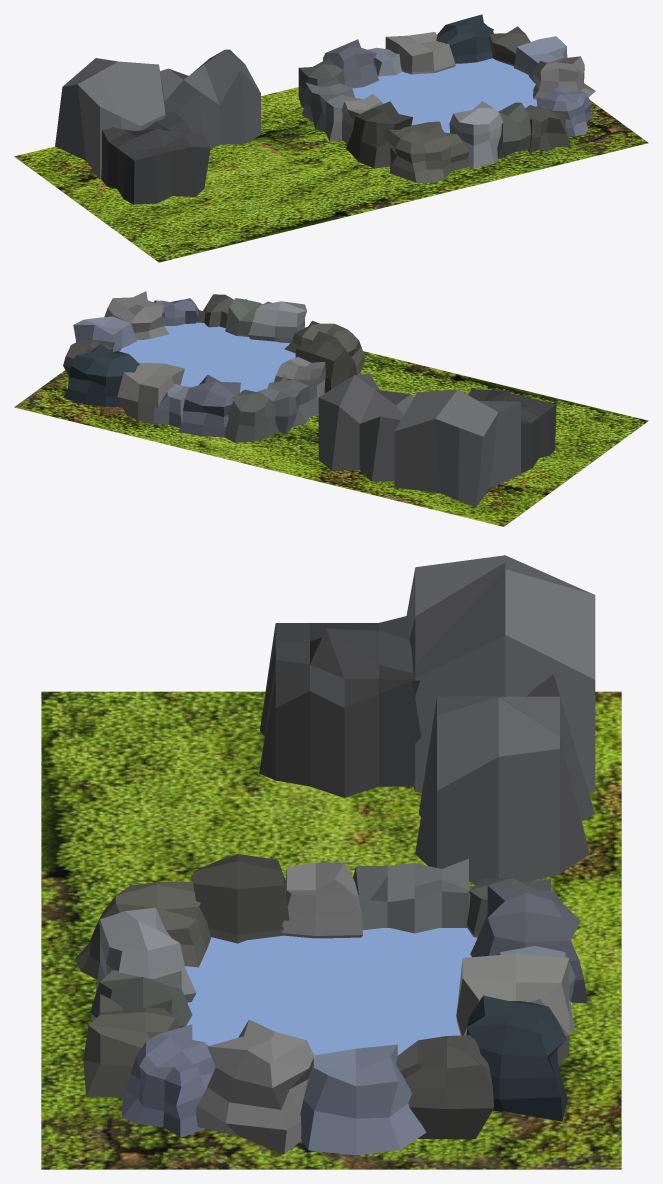
The model's file is lake.glb.
3 renders of one model, top to bottom at view 1: azimuth 30°, elevation 25°; view 2: azimuth 150°, elevation 25°; view 3: azimuth 270°, elevation 25°, orthographic. The views are drawn at different scales.
Visible parts, largest first — view 1: Plane.001_22, Cube.001_2, Cube.003_4, Plane_21, Cube.002_3, Cube.008_9, Cube.007_8, Cube.012_13, Cube.011_12, Cube.005_6, Cube.009_10, Cube.016_17 (+9 smaller); view 2: Plane.001_22, Cube.001_2, Cube.002_3, Plane_21, Cube.009_10, Cube.003_4, Cube.018_19, Cube.011_12, Cube.004_5, Cube.005_6, Cube.012_13, Cube.007_8 (+9 smaller); view 3: Plane.001_22, Plane_21, Cube.002_3, Cube.001_2, Cube.003_4, Cube.016_17, Cube.017_18, Cube.009_10, Cube.019_20, Cube.015_16, Cube.005_6, Cube.007_8 (+8 smaller).
Part boxes in pixels (<box>): Plane.001_22: <box>14,87,648,262</box>; Cube.001_2: <box>55,58,165,179</box>; Cube.003_4: <box>101,111,210,204</box>; Plane_21: <box>352,58,537,133</box>; Cube.002_3: <box>160,49,260,149</box>; Cube.008_9: <box>384,121,469,182</box>; Cube.007_8: <box>346,101,412,168</box>; Cube.012_13: <box>449,101,503,168</box>; Cube.011_12: <box>385,32,455,74</box>; Cube.005_6: <box>302,77,363,141</box>; Cube.009_10: <box>436,14,493,63</box>; Cube.016_17: <box>532,56,595,99</box>; Plane.001_22: <box>14,351,648,526</box>; Cube.001_2: <box>394,389,520,507</box>; Cube.002_3: <box>318,373,413,481</box>; Plane_21: <box>120,322,295,392</box>; Cube.009_10: <box>63,343,139,406</box>; Cube.003_4: <box>468,389,556,473</box>; Cube.018_19: <box>178,375,240,437</box>; Cube.011_12: <box>117,362,184,425</box>; Cube.004_5: <box>224,389,278,442</box>; Cube.005_6: <box>257,375,318,434</box>; Cube.012_13: <box>248,301,306,343</box>; Cube.007_8: <box>295,331,356,393</box>; Plane.001_22: <box>41,691,621,1169</box>; Plane_21: <box>185,928,477,1055</box>; Cube.002_3: <box>415,674,594,883</box>; Cube.001_2: <box>406,555,595,792</box>; Cube.003_4: <box>259,616,421,797</box>; Cube.016_17: <box>196,1019,313,1154</box>; Cube.017_18: <box>300,1044,425,1155</box>; Cube.009_10: <box>466,995,567,1121</box>; Cube.019_20: <box>396,1035,493,1138</box>; Cube.015_16: <box>121,1024,215,1137</box>; Cube.005_6: <box>353,858,470,933</box>; Cube.007_8: <box>193,854,289,943</box>.
Size of the model in its own units: 10.33 by 1.96 by 5.27.
21 materials, 1 textured.
